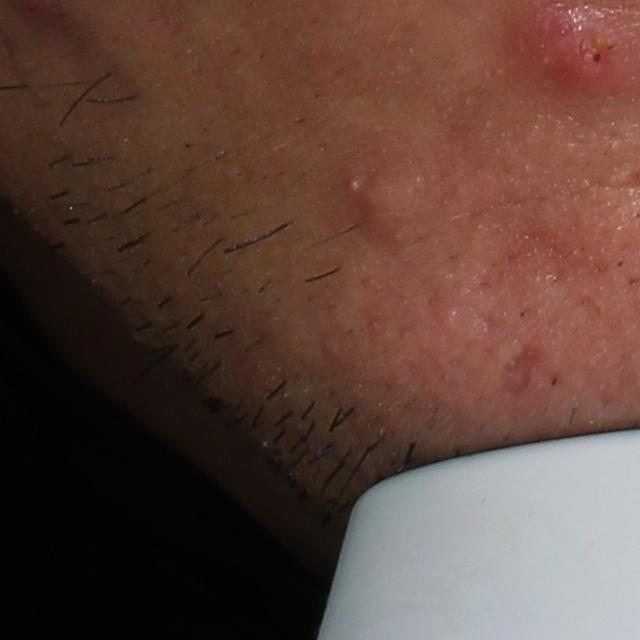atrophic_scar: (438, 103, 622, 331), (491, 342, 544, 396)
comedo: (343, 174, 361, 191)
papule: (354, 178, 415, 245)
